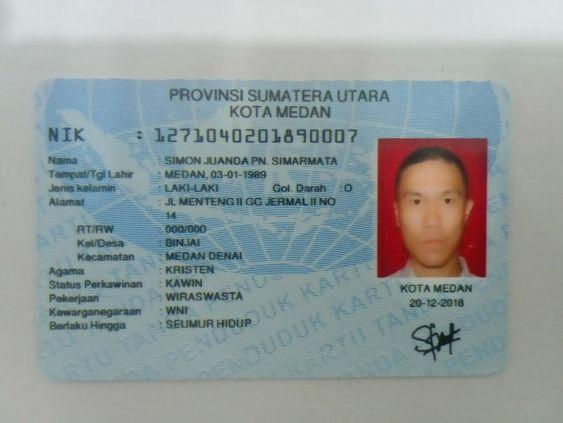ID-card: (37, 82, 509, 379)
